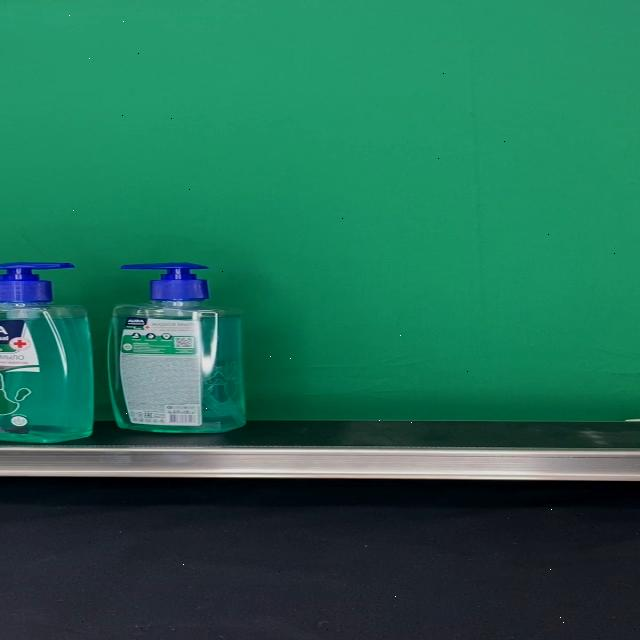Bottle: (107, 263, 246, 433), (0, 262, 96, 442)
Cap: (119, 264, 210, 304), (0, 262, 74, 302)
